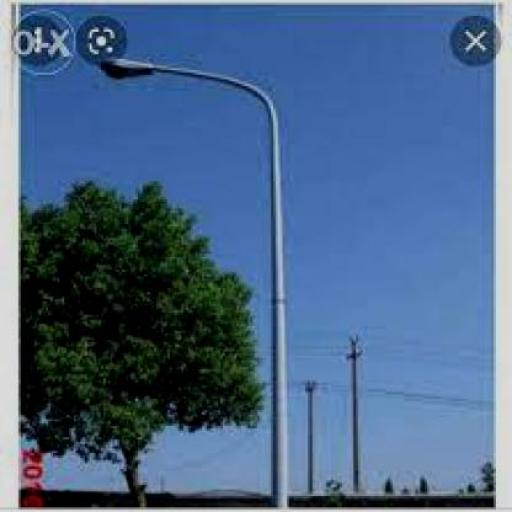street light: (96, 52, 291, 510)
